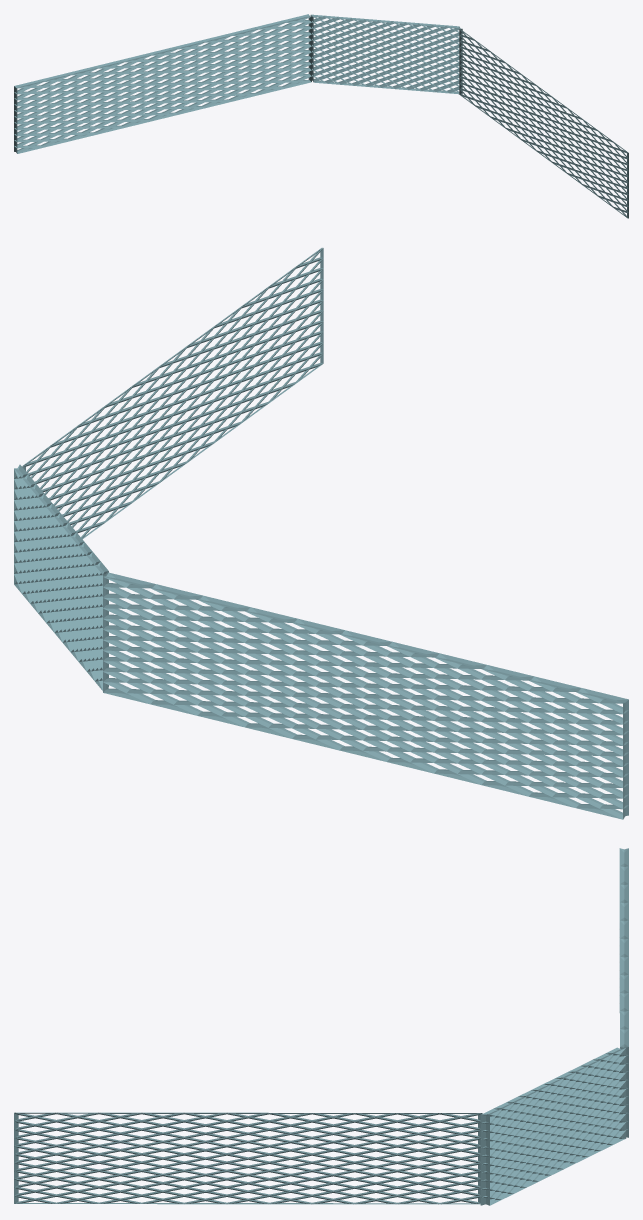
File: Rejas.obj
3 renders of one model, top to bottom at view 1: azimuth 30°, elevation 25°; view 2: azimuth 150°, elevation 25°; view 3: azimuth 270°, elevation 25°, orthographic. The views are drawn at different scales.
Visible parts, largest first — view 1: Plane.002; view 2: Plane.002; view 3: Plane.002.
Part boxes in pixels (x1=…): Plane.002: x1=14, y1=14, x2=628, y2=218; Plane.002: x1=14, y1=247, x2=628, y2=819; Plane.002: x1=14, y1=848, x2=628, y2=1205.
Bounding box in the file's own units: 23.69 × 3.77 × 23.08.
